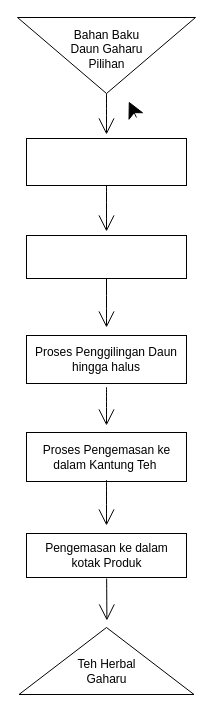
The diagram is 213 pixels wide and 712 high, and some of its shapes have lost their labels. The centre of each missing label's shape, as x and y in pixels:
"Bahan baku dibersihkan dan dijemur" goes at [106,162].
"Proses Sangrai Daun" goes at [106,256].
